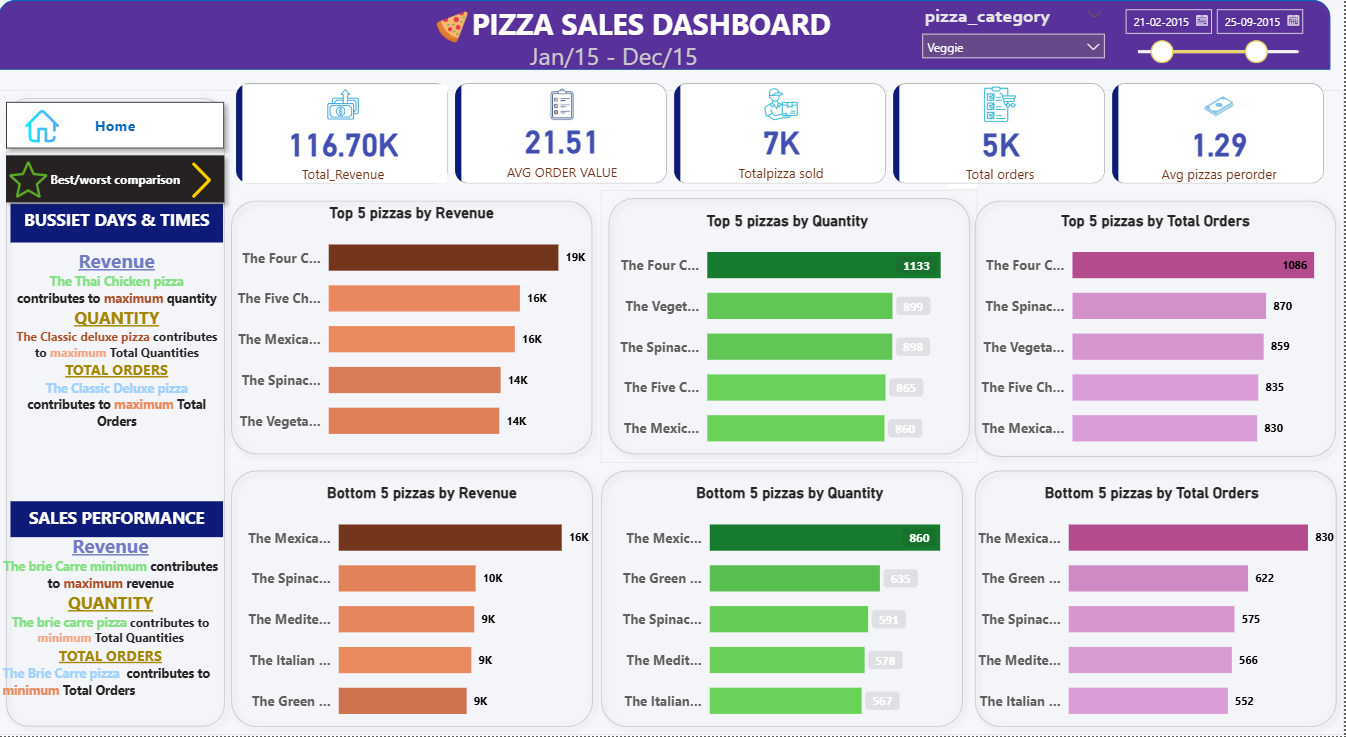

What the dashboard file says about the page in this screenshot:
{"tool":"powerbi","page":{"name":"Best/worst comparison","canvas":[1500,820],"ordinal":1},"visuals":[{"type":"group","id":"g1","title":"Group 1","box":[0,100.7,1500,718.3],"z":0},{"type":"shape","box":[250,515.3,421.2,303.8],"z":0,"group":"g1"},{"type":"shape","box":[33.2,0,1451.3,77.5],"z":1000},{"type":"shape","box":[1078.8,515.3,421.2,303.8],"z":1000,"group":"g1"},{"type":"textbox","box":[300.6,0,975.5,75.6],"z":2000},{"type":"shape","box":[662.5,515.3,421.2,303.8],"z":2000,"group":"g1"},{"type":"shape","box":[0,100.7,261.7,718.3],"z":3000,"group":"g1"},{"type":"textbox","box":[662,38.7,671.3,77.5],"z":3000},{"type":"image","box":[531.1,1.8,57.2,73.8],"z":4000},{"type":"shape","box":[671.3,212.1,420.6,303.6],"z":4000,"group":"g1"},{"type":"barChart","title":"Top 5 pizzas by Revenue","fields":{"Category":["pizza_sales.pizza_name"],"Y":["pizza_sales.Total_Revenue"]},"box":[250.7,227,420.6,281.3],"z":5000},{"type":"shape","box":[250.7,214.9,420.6,300.8],"z":6000,"group":"g1"},{"type":"textbox","box":[13.3,226.7,236.7,43.3],"z":6000},{"type":"shape","box":[1079.3,214.9,420.6,303.6],"z":7000,"group":"g1"},{"type":"textbox","box":[13.3,270,236.7,238.3],"z":7000},{"type":"textbox","box":[0,598.3,261.7,210],"z":8000},{"type":"textbox","box":[13.3,558.3,236.7,40],"z":9000},{"type":"slicer","fields":{"Values":["pizza_sales.pizza_category"]},"box":[1020,0,223.3,75],"z":10000},{"type":"slicer","fields":{"Values":["pizza_sales.order_date"]},"box":[1243.3,0,226.7,75],"z":11000},{"type":"barChart","title":"Top 5 pizzas by Quantity","fields":{"Category":["pizza_sales.pizza_name"],"Y":["pizza_sales.Totalpizza sold"]},"box":[675.4,235.4,408.1,281.3],"z":12000},{"type":"barChart","title":"Top 5 pizzas by Total Orders","fields":{"Category":["pizza_sales.pizza_name"],"Y":["pizza_sales.Total orders"]},"box":[1079.3,235.4,420.6,281.3],"z":13000},{"type":"barChart","title":"Bottom 5 pizzas by Revenue","fields":{"Category":["pizza_sales.pizza_name"],"Y":["pizza_sales.Total_Revenue"]},"box":[262.1,538.7,421.3,281.4],"z":14000},{"type":"barChart","title":"Bottom 5 pizzas by Quantity","fields":{"Category":["pizza_sales.pizza_name"],"Y":["pizza_sales.Totalpizza sold"]},"box":[678.2,539,408.1,281.3],"z":15000},{"type":"barChart","title":"Bottom 5 pizzas by Total Orders","fields":{"Category":["pizza_sales.pizza_name"],"Y":["pizza_sales.Total orders"]},"box":[1075.1,539,420.6,281.3],"z":16000},{"type":"cardVisual","fields":{"Data":["pizza_sales.Total_Revenue","pizza_sales.AVG ORDER VALUE","pizza_sales.Totalpizza sold","pizza_sales.Total orders","pizza_sales.Avg pizzas perorder"]},"box":[260.9,88,1224.5,122.3],"z":17000},{"type":"pageNavigator","box":[0,104.1,261.7,70.4],"z":18000},{"type":"pageNavigator","box":[0,164.6,261.7,70.4],"z":19000},{"type":"image","box":[6.5,174.5,53.8,52.2],"z":19001},{"type":"image","box":[0,117,98.9,47.4],"z":19002},{"type":"image","box":[179.3,176.1,94.6,50.5],"z":19003}]}

Visuals, with their boxes in screenshot pixels (x1, y1, x2, y2), scaled from the page's 1500x820 canvas onto the 1346x737 screenshot:
"Group 1" group: bbox=(0, 91, 1345, 736)
shape: bbox=(224, 463, 602, 736)
shape: bbox=(30, 0, 1332, 70)
shape: bbox=(968, 463, 1345, 736)
textbox: bbox=(270, 0, 1145, 68)
shape: bbox=(594, 463, 972, 736)
shape: bbox=(0, 91, 235, 736)
textbox: bbox=(594, 35, 1196, 104)
image: bbox=(477, 2, 528, 68)
shape: bbox=(602, 191, 980, 464)
"Top 5 pizzas by Revenue" barChart: bbox=(225, 204, 602, 457)
shape: bbox=(225, 193, 602, 464)
textbox: bbox=(12, 204, 224, 243)
shape: bbox=(968, 193, 1345, 466)
textbox: bbox=(12, 243, 224, 457)
textbox: bbox=(0, 538, 235, 726)
textbox: bbox=(12, 502, 224, 538)
slicer - pizza_sales.pizza_category: bbox=(915, 0, 1116, 67)
slicer - pizza_sales.order_date: bbox=(1116, 0, 1319, 67)
"Top 5 pizzas by Quantity" barChart: bbox=(606, 212, 972, 464)
"Top 5 pizzas by Total Orders" barChart: bbox=(968, 212, 1345, 464)
"Bottom 5 pizzas by Revenue" barChart: bbox=(235, 484, 613, 736)
"Bottom 5 pizzas by Quantity" barChart: bbox=(609, 484, 975, 736)
"Bottom 5 pizzas by Total Orders" barChart: bbox=(965, 484, 1342, 736)
cardVisual - pizza_sales.Total_Revenue x pizza_sales.AVG ORDER VALUE: bbox=(234, 79, 1333, 189)
pageNavigator: bbox=(0, 94, 235, 157)
pageNavigator: bbox=(0, 148, 235, 211)
image: bbox=(6, 157, 54, 204)
image: bbox=(0, 105, 89, 148)
image: bbox=(161, 158, 246, 204)
